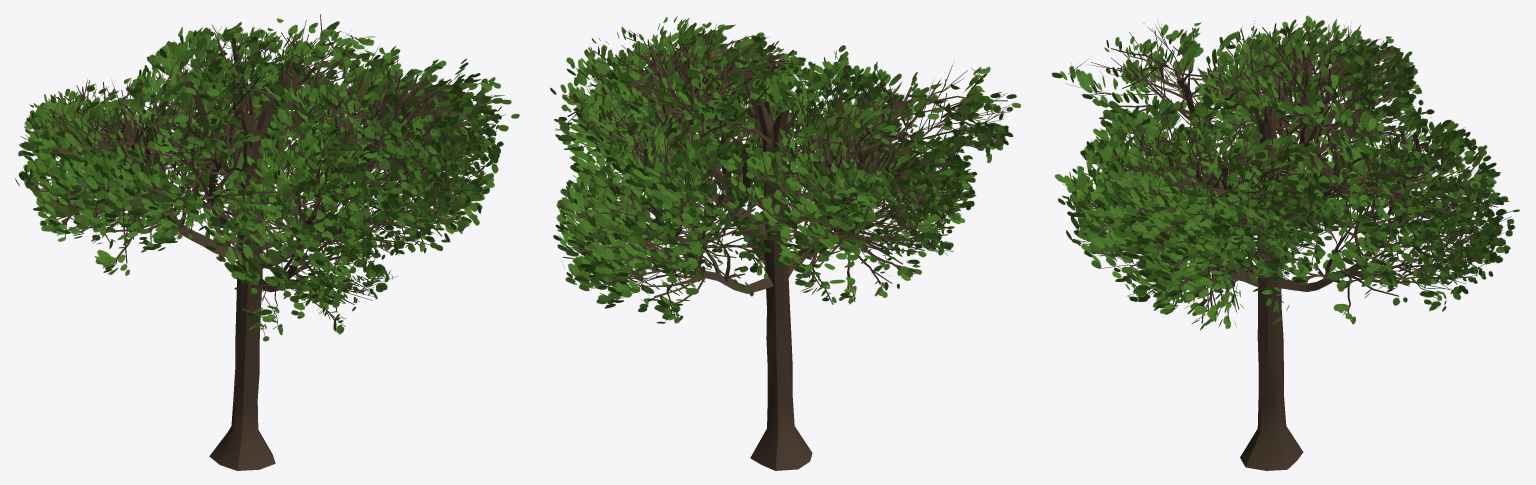
3 renders of one model, left to right at view 1: azimuth 30°, elevation 25°; view 2: azimuth 150°, elevation 25°; view 3: azimuth 270°, elevation 25°, orthographic.
Parts seen in each view (by area): view 1: oak 01.001_trunk_Mat.001_0.022; view 2: oak 01.001_trunk_Mat.001_0.022; view 3: oak 01.001_trunk_Mat.001_0.022.
Boxes of the visible parts, x1=… form: oak 01.001_trunk_Mat.001_0.022: x1=15, y1=14, x2=519, y2=470; oak 01.001_trunk_Mat.001_0.022: x1=550, y1=15, x2=1020, y2=470; oak 01.001_trunk_Mat.001_0.022: x1=1051, y1=15, x2=1519, y2=470.
Bounding box in the file's own units: 4.96 × 3.96 × 4.57.
2 materials, 1 textured.
